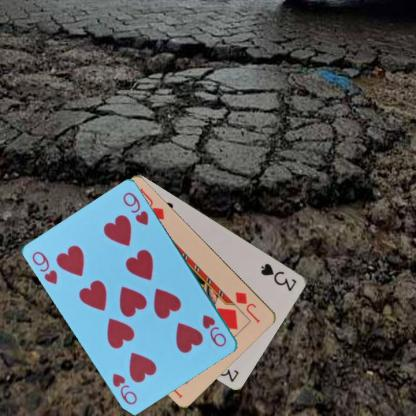3s: (258, 260, 298, 292)
9h: (30, 248, 60, 286), (200, 312, 228, 348)
Jd: (233, 289, 262, 325)
